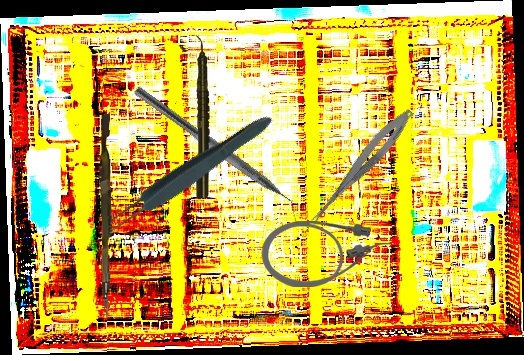Cannula: (261, 221, 391, 287)
Chopper: (124, 84, 311, 226)
Handpiece: (195, 35, 210, 200)
Micro Scissor: (304, 103, 418, 234)
Pusher: (95, 114, 118, 318)
Tissue Forceps: (98, 107, 278, 240)
